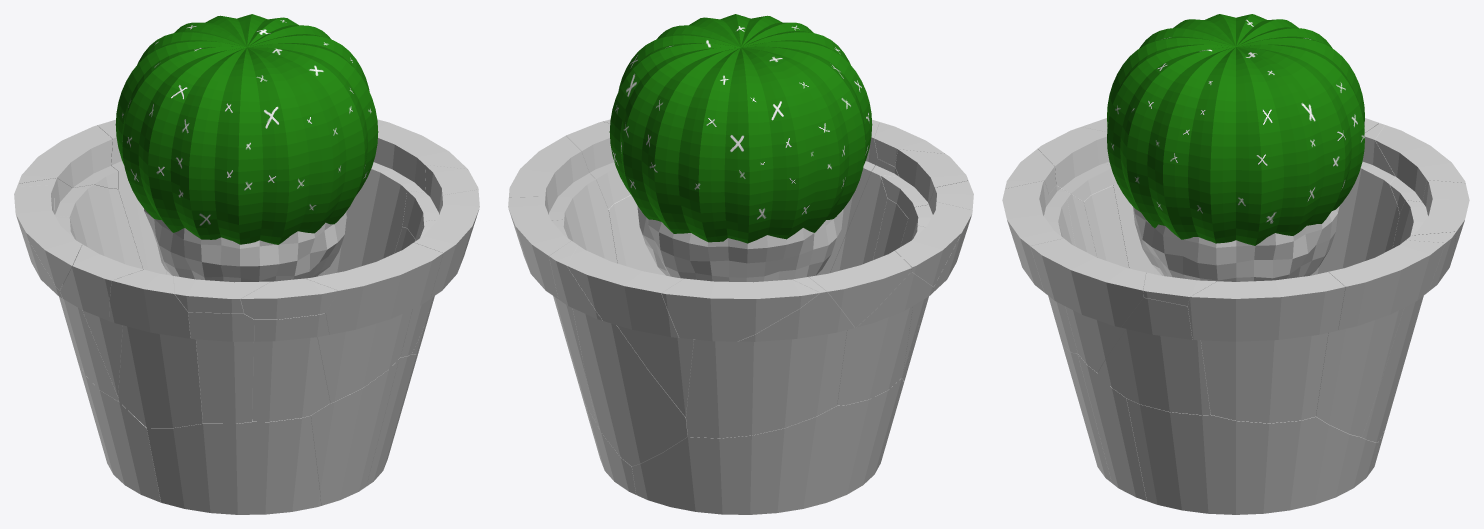
Rendered from BrokenPottedPlantCactus.fbx.
The picture shows the model from 3 angles, left to right: view 1: azimuth 30°, elevation 25°; view 2: azimuth 150°, elevation 25°; view 3: azimuth 270°, elevation 25°; orthographic projection.
Visible parts, largest first — view 1: Cactus, Plant Pot_cell.007, Plant Pot_cell.021, Plant Pot_cell.011, Plant Pot_cell.020, Dirt Ball, Plant Pot_cell.016, Plant Pot_cell.023, Plant Pot_cell.018, Plant Pot_cell.001, Plant Pot_cell.015, Plant Pot_cell.005 (+10 smaller); view 2: Cactus, Plant Pot_cell.005, Plant Pot_cell.001, Plant Pot_cell.006, Plant Pot_cell.014, Dirt Ball, Plant Pot_cell.022, Plant Pot_cell.020, Plant Pot_cell.012, Plant Pot_cell.008, Plant Pot_cell, Plant Pot_cell.013 (+10 smaller); view 3: Cactus, Plant Pot_cell.017, Plant Pot_cell.020, Plant Pot_cell.008, Plant Pot_cell.019, Dirt Ball, Plant Pot_cell.004, Plant Pot_cell.001, Plant Pot_cell.021, Plant Pot_cell.002, Plant Pot_cell.013, Plant Pot_cell.022 (+8 smaller).
Part boxes in pixels (bbox=[...]): Cactus: bbox=[115, 14, 378, 244]; Plant Pot_cell.007: bbox=[147, 415, 320, 514]; Plant Pot_cell.021: bbox=[305, 242, 443, 403]; Plant Pot_cell.011: bbox=[109, 269, 202, 427]; Plant Pot_cell.020: bbox=[324, 119, 467, 274]; Dirt Ball: bbox=[144, 209, 347, 282]; Plant Pot_cell.016: bbox=[252, 313, 330, 421]; Plant Pot_cell.023: bbox=[311, 359, 398, 505]; Plant Pot_cell.018: bbox=[188, 312, 254, 423]; Plant Pot_cell.001: bbox=[17, 178, 142, 269]; Plant Pot_cell.015: bbox=[59, 244, 143, 396]; Plant Pot_cell.005: bbox=[77, 359, 160, 502]; Cactus: bbox=[609, 14, 872, 243]; Plant Pot_cell.005: bbox=[632, 378, 903, 514]; Plant Pot_cell.001: bbox=[686, 277, 854, 438]; Plant Pot_cell.006: bbox=[549, 241, 687, 466]; Plant Pot_cell.014: bbox=[567, 245, 693, 417]; Dirt Ball: bbox=[637, 206, 843, 282]; Plant Pot_cell.022: bbox=[661, 278, 819, 341]; Plant Pot_cell.020: bbox=[509, 135, 617, 263]; Plant Pot_cell.012: bbox=[837, 272, 933, 405]; Plant Pot_cell.008: bbox=[508, 196, 596, 423]; Plant Pot_cell: bbox=[809, 250, 911, 327]; Plant Pot_cell.013: bbox=[880, 149, 968, 217]; Cactus: bbox=[1107, 14, 1364, 245]; Plant Pot_cell.017: bbox=[1126, 398, 1378, 514]; Plant Pot_cell.020: bbox=[1188, 272, 1345, 423]; Plant Pot_cell.008: bbox=[1316, 240, 1445, 437]; Plant Pot_cell.019: bbox=[1098, 298, 1210, 415]; Dirt Ball: bbox=[1133, 206, 1339, 281]; Plant Pot_cell.004: bbox=[1030, 238, 1146, 372]; Plant Pot_cell.001: bbox=[1310, 123, 1399, 275]; Plant Pot_cell.021: bbox=[1002, 180, 1077, 353]; Plant Pot_cell.002: bbox=[1077, 354, 1146, 500]; Plant Pot_cell.013: bbox=[1038, 127, 1114, 201]; Plant Pot_cell.022: bbox=[1375, 125, 1465, 213].
Size of the model in its own units: 331 by 323 by 331.
